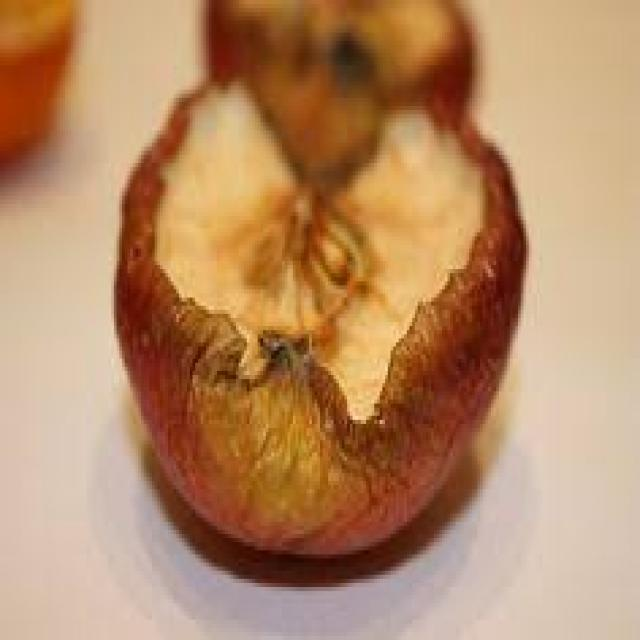organic waste: (106, 74, 523, 562), (198, 0, 477, 171), (0, 0, 81, 175)
